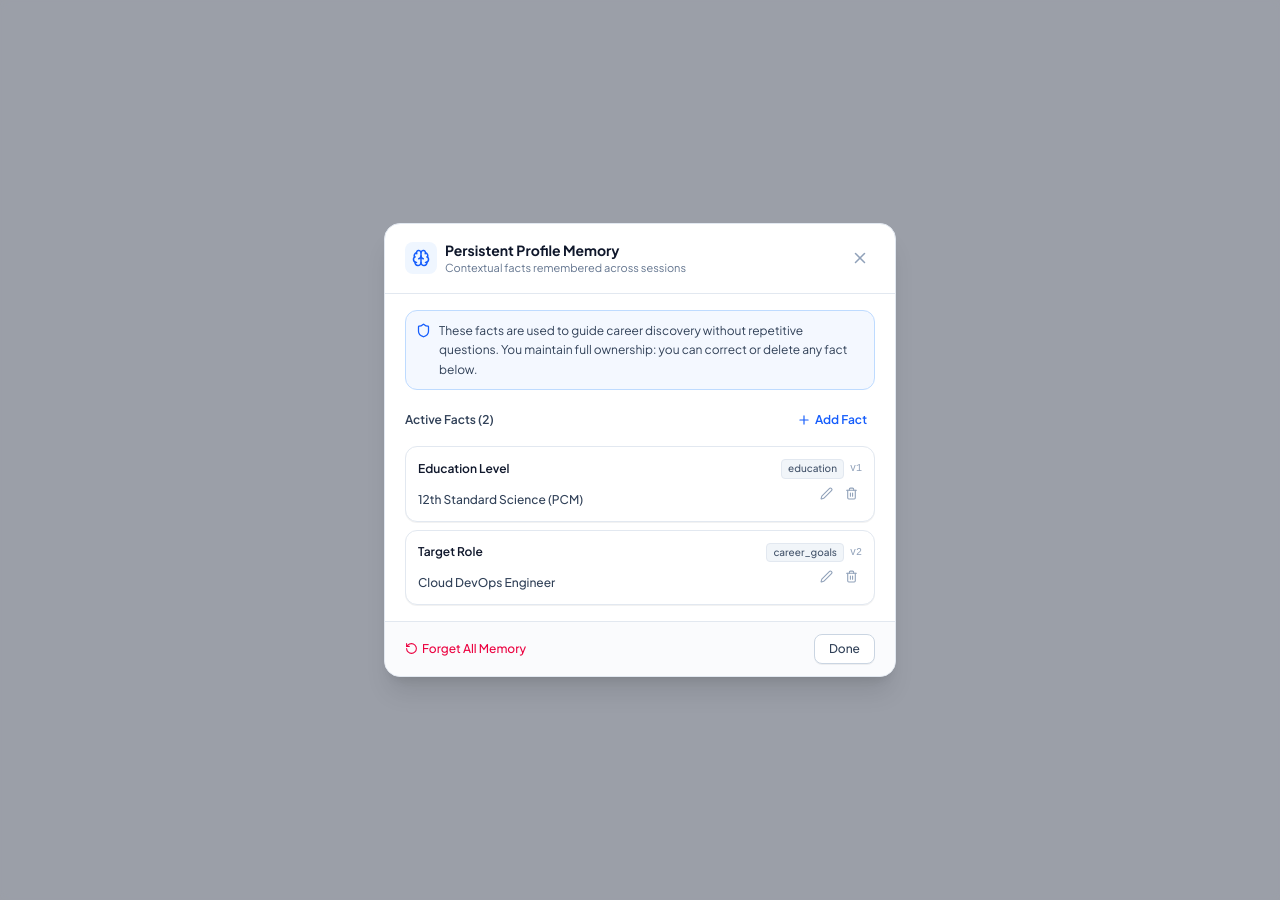
Test: MemoryModal Component › allows inline editing of a memory fact
This screenshot has width=1280, height=900.
Expected: the text "12th Standard Science (PCM)" is shown, left=418, top=490, right=583, bottom=508
Note: Click edit button for the first memory
Step 1. Click the button titled "Correct fact" in the row of "12th Standard Science (PCM)" → point(826, 493), box left=816, top=482, right=837, bottom=504
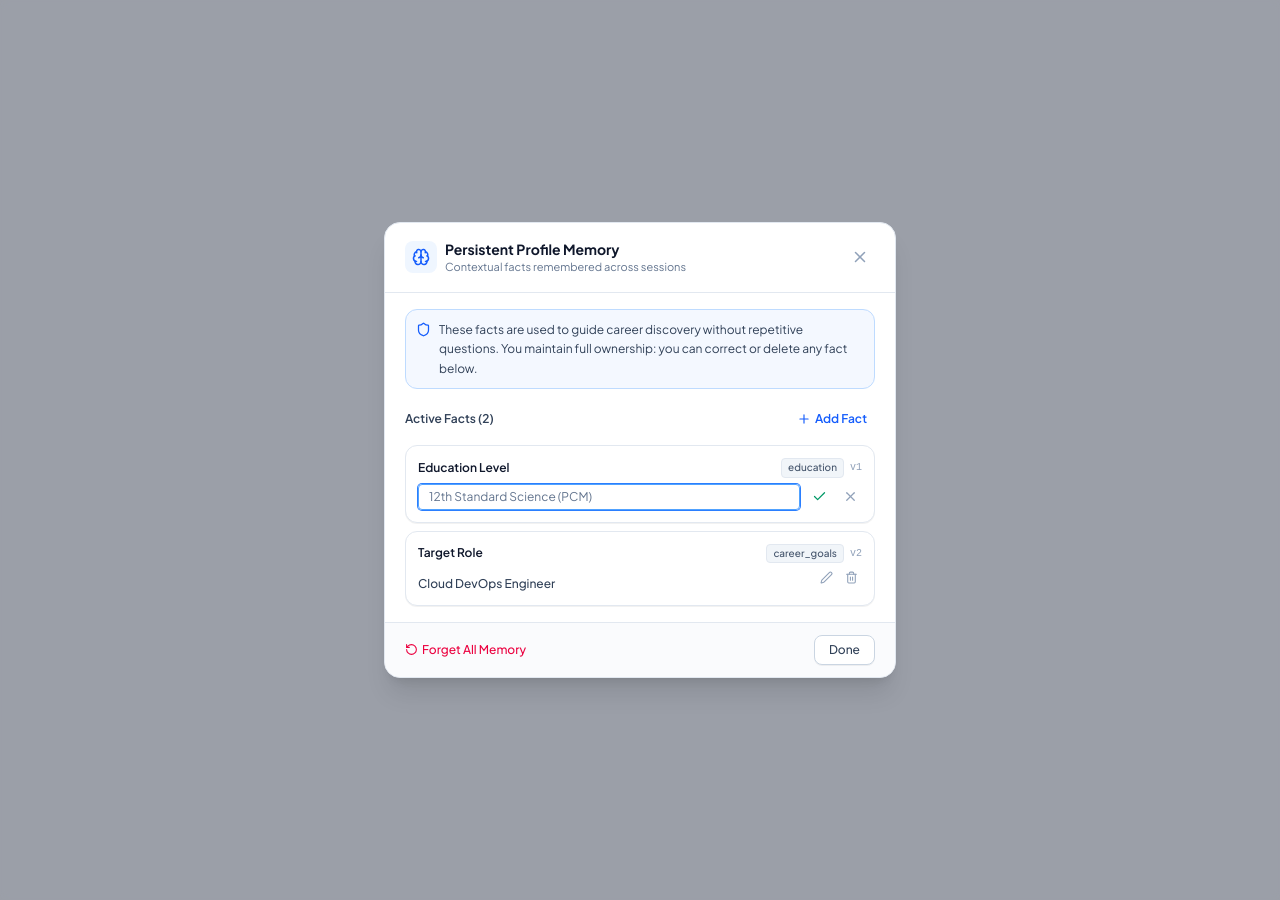
Note: Input field should now be present
Step 2. Replace the text in the field showing "12th Standard Science (PCM)" with "12th Science CBSE 94%" → point(609, 496), box left=418, top=484, right=800, bottom=510
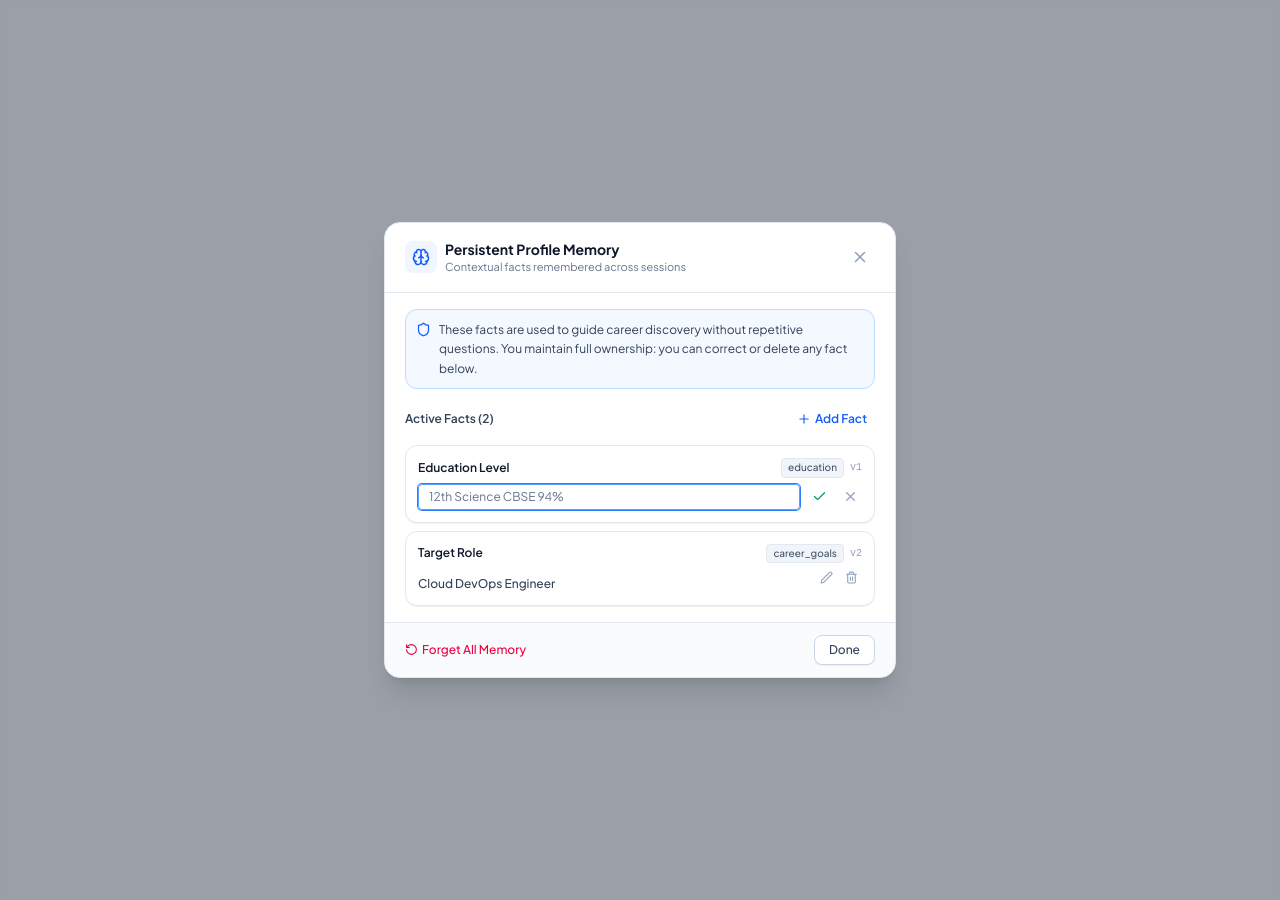
Note: Click save button
Step 3. Click the button titled "Save correction" → point(820, 496), box left=808, top=485, right=831, bottom=508
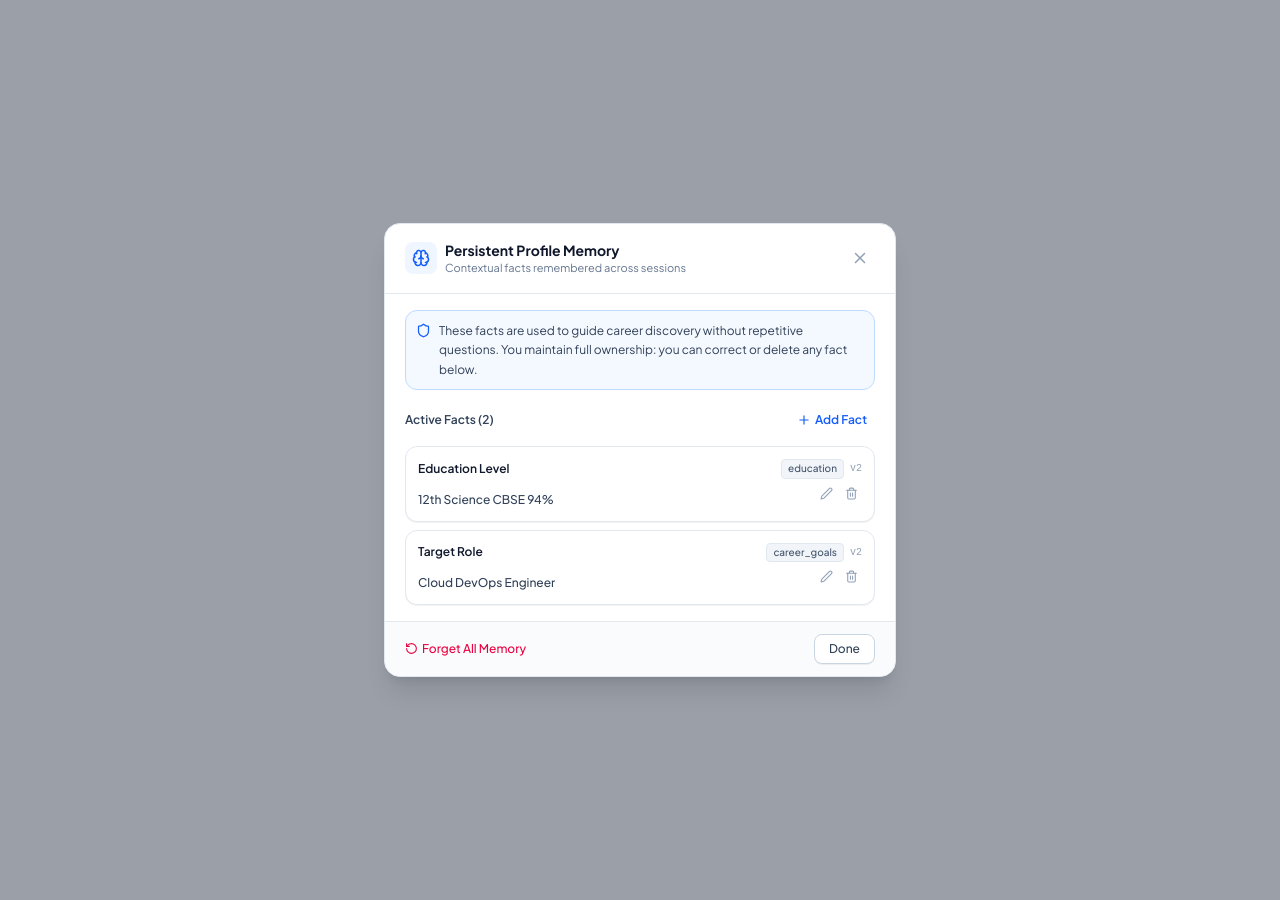
Now the text "12th Science CBSE 94%" is shown, box left=418, top=490, right=554, bottom=508
